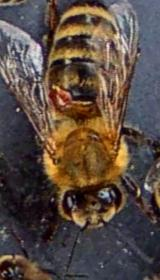varroa_mite: (43, 76, 77, 117)
